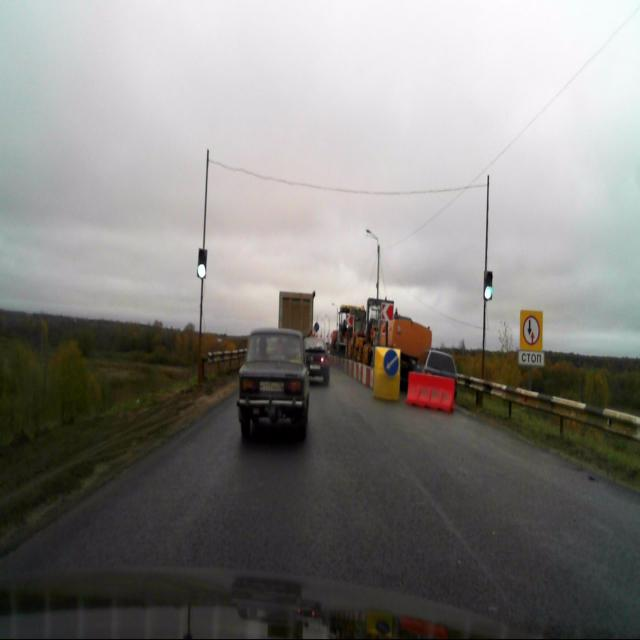road sign: (518, 352, 544, 366)
